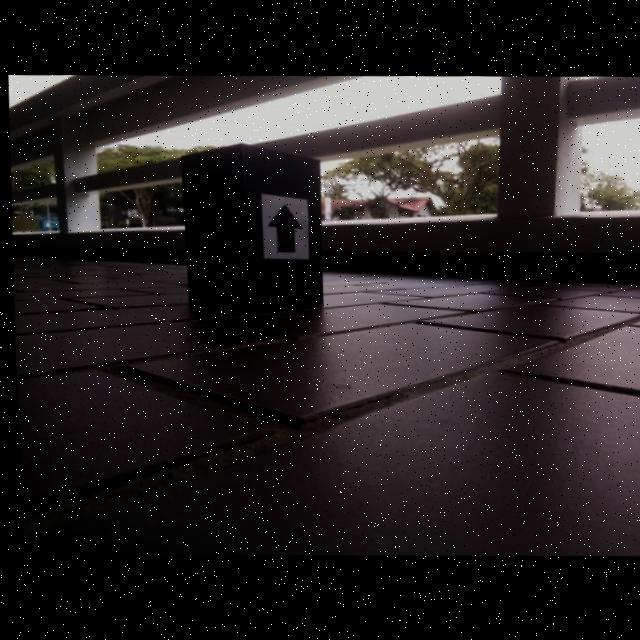UP: (264, 204, 302, 255)
